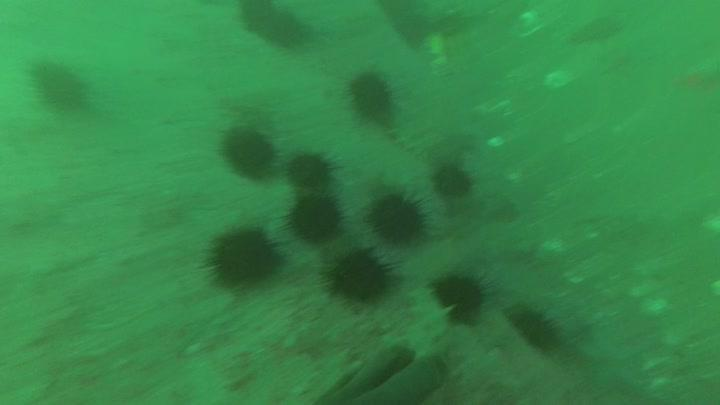urchin: (203, 219, 282, 291), (209, 117, 274, 182), (362, 186, 427, 251), (323, 242, 393, 301), (339, 69, 397, 125), (286, 190, 344, 246), (282, 146, 337, 190), (440, 269, 486, 318), (429, 160, 474, 199)
